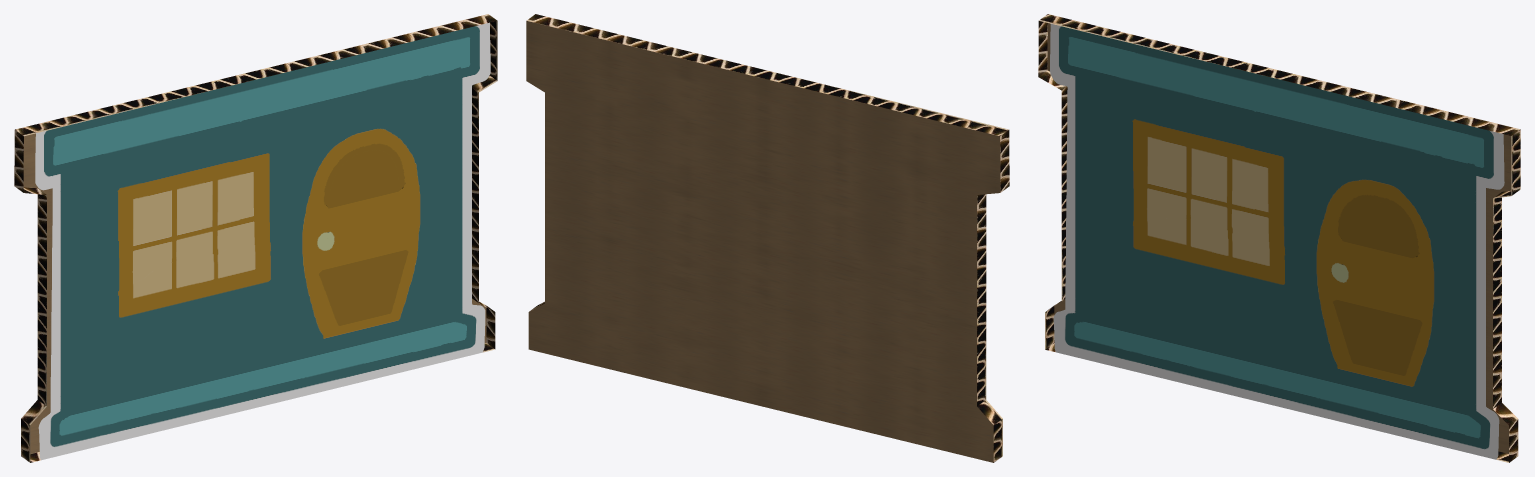
File: House_Base01.fbx
3 views of the same model, side by side, from view 1: azimuth 30°, elevation 25°; view 2: azimuth 150°, elevation 25°; view 3: azimuth 330°, elevation 25° (orthographic).
Parts seen in each view (by area): view 1: Plane002; view 2: Plane002; view 3: Plane002.
Part boxes in pixels (x1,y1,x2,y2): Plane002: (14,14,497,462); Plane002: (526,14,1009,462); Plane002: (1038,14,1520,462).
Size of the model in its own units: 17.64 by 11.67 by 0.5952.
3 materials, 3 textured.
